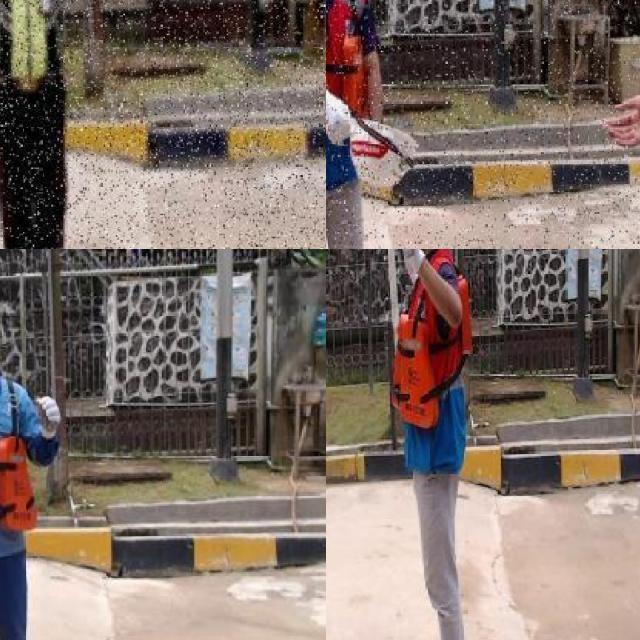apron: (326, 80, 355, 151), (34, 391, 62, 444), (401, 249, 424, 277)
